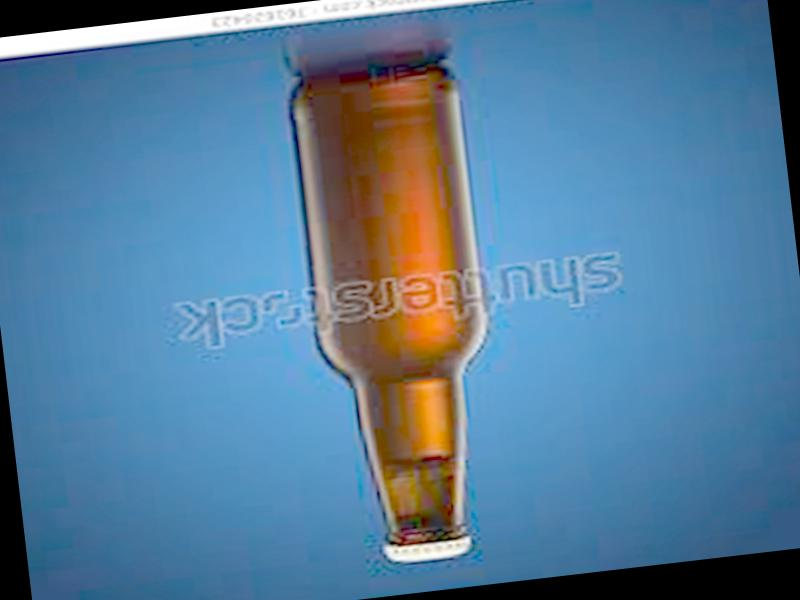Beer: (284, 60, 514, 572)
